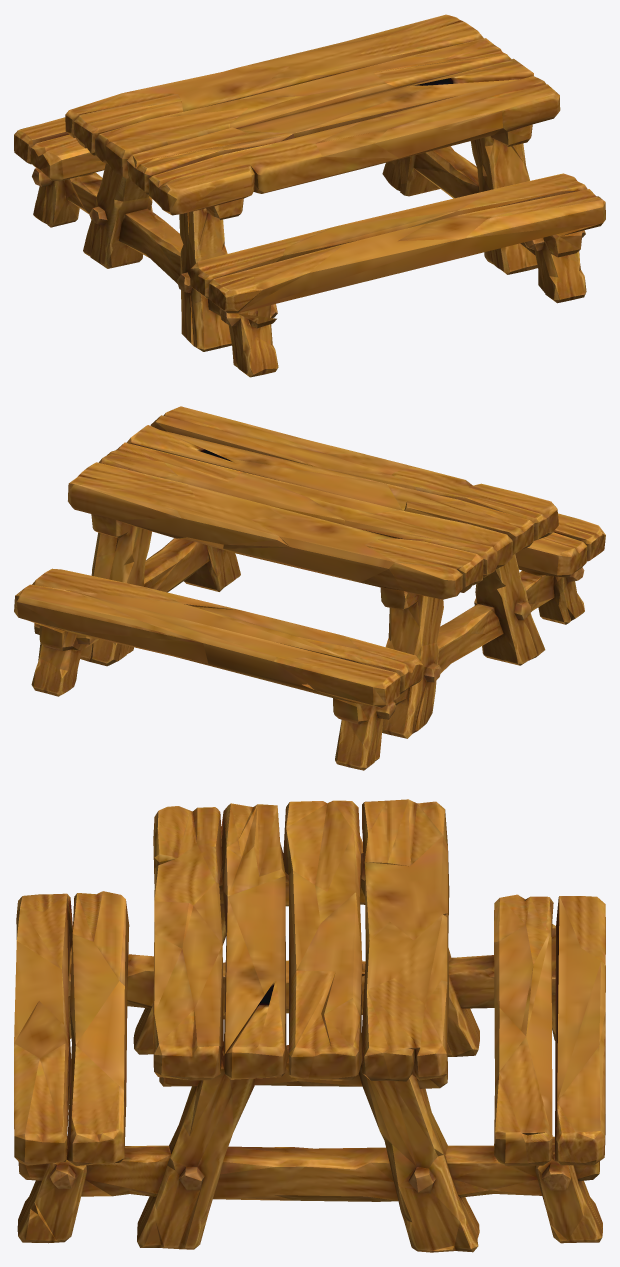
Rendered from tavern-table.glb.
3 renders of one model, top to bottom at view 1: azimuth 30°, elevation 25°; view 2: azimuth 150°, elevation 25°; view 3: azimuth 270°, elevation 25°, orthographic. The views are drawn at different scales.
Visible parts, largest first — view 1: output_unwrapped; view 2: output_unwrapped; view 3: output_unwrapped.
Part boxes in pixels (box(x1,y1,x2,y2)): output_unwrapped: box(14, 14, 605, 377); output_unwrapped: box(14, 406, 605, 770); output_unwrapped: box(14, 799, 605, 1252).
Bounding box in the file's own units: 1.89 × 0.7674 × 1.87.
Materials: 1 (1 with a texture image).
